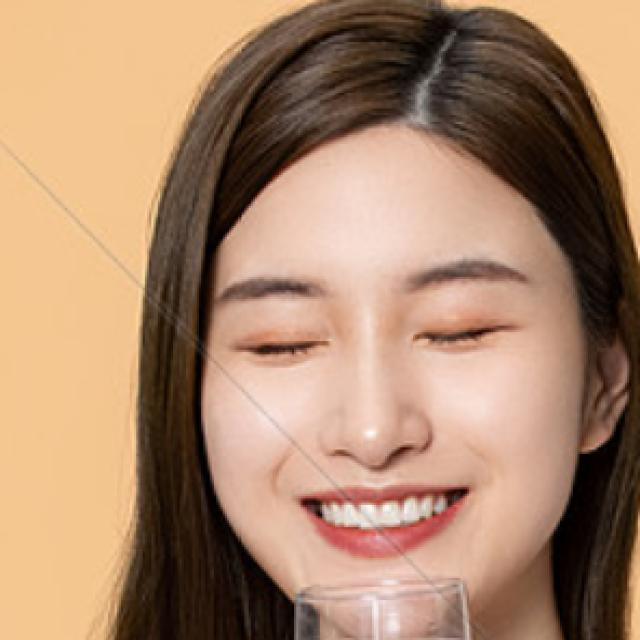close: (386, 241, 560, 378), (201, 269, 343, 381)
